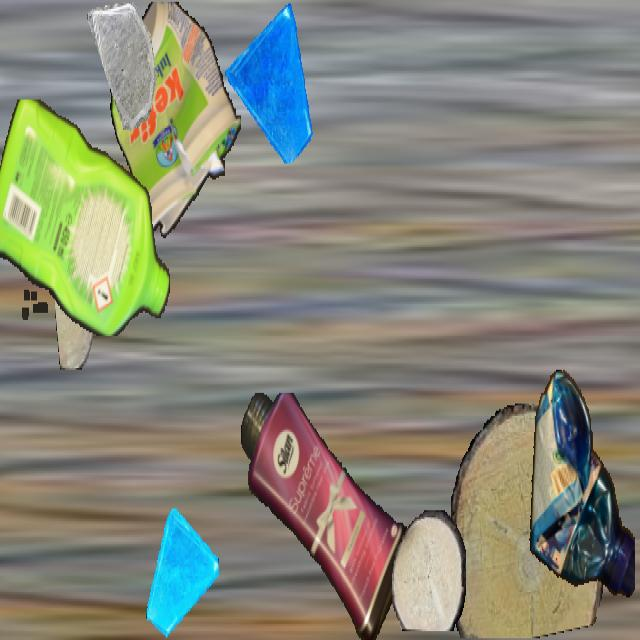glass: (225, 2, 315, 162), (144, 507, 218, 638), (87, 2, 159, 130)
plastic: (240, 393, 412, 638), (0, 100, 171, 334), (109, 2, 241, 247), (526, 366, 634, 608)
wood: (447, 404, 607, 638), (392, 510, 466, 631), (55, 238, 93, 370)
